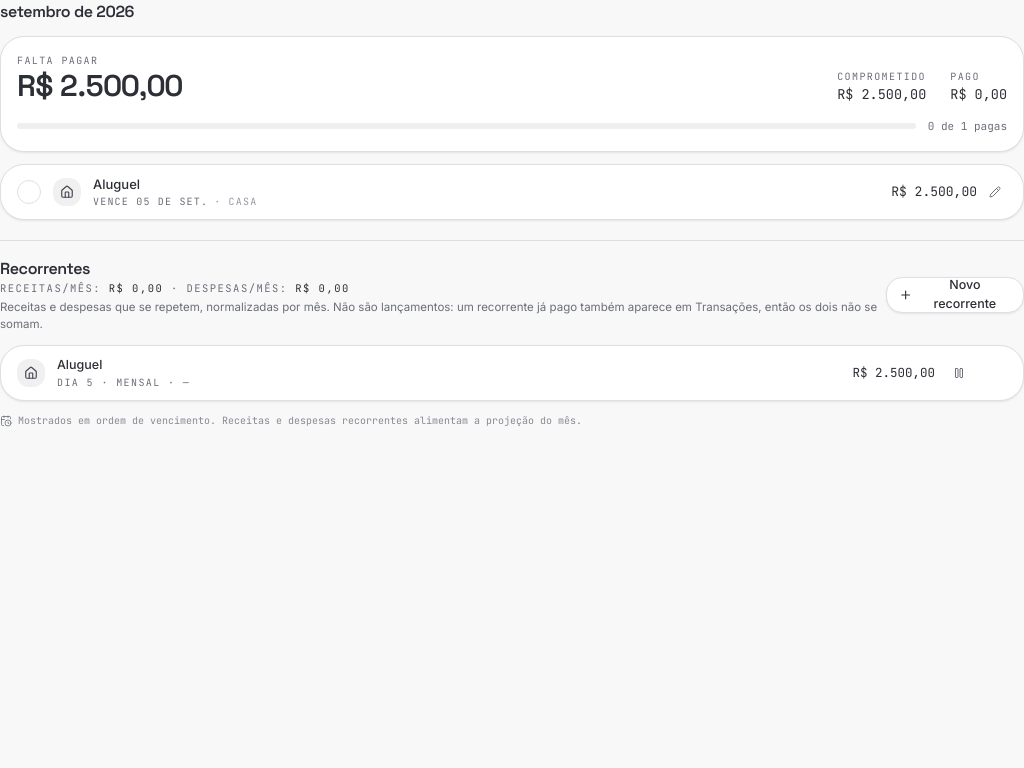
Test: recurring form · apply to the current month › offers the option for a pending occurrence in the current month
Step 1. Click the text "Aluguel" below "Receitas/mês" → (80, 365), box [57,357,102,372]
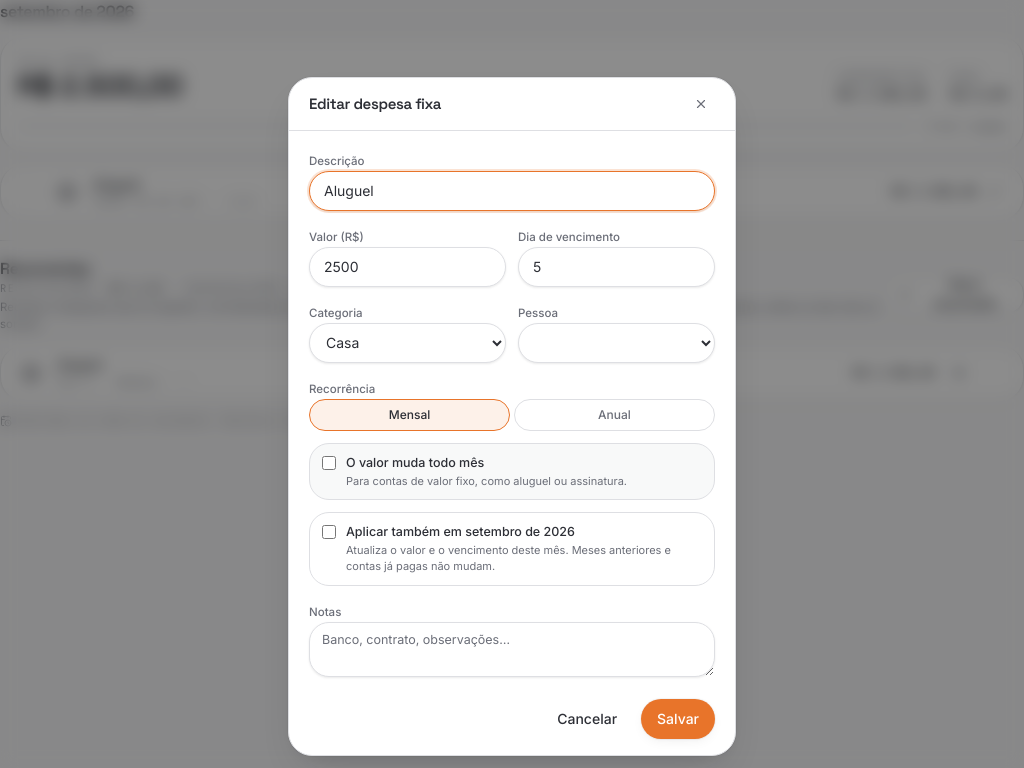
Check: the checkbox labelled "Aplicar também em" is not checked, box [322,525,336,539]
